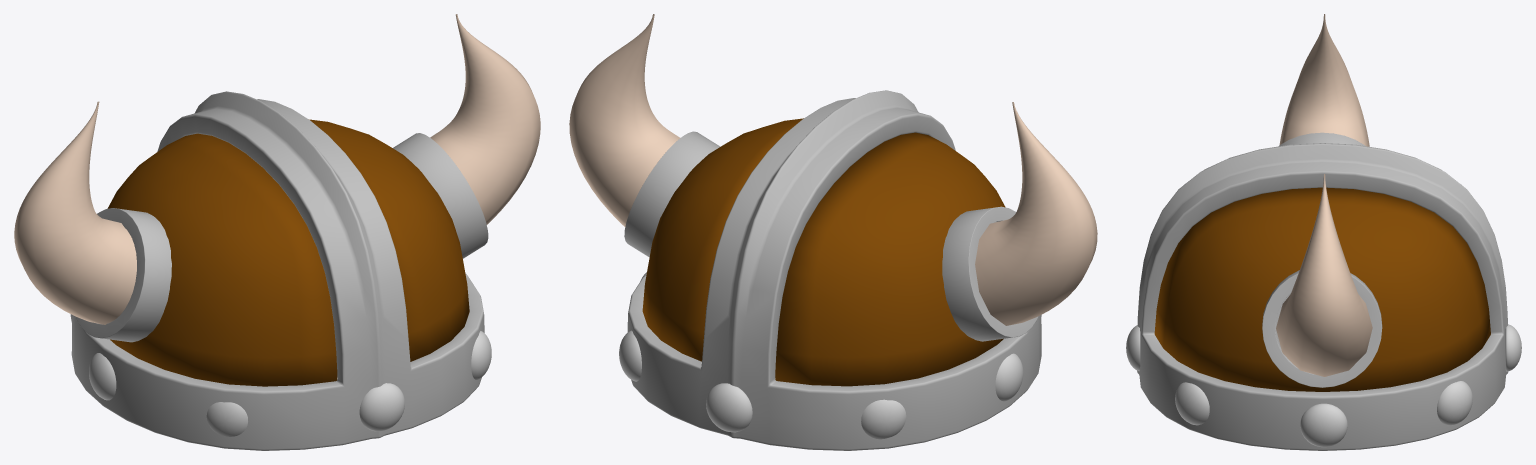
The model's file is viking.glb.
The picture shows the model from 3 angles, left to right: view 1: azimuth 30°, elevation 25°; view 2: azimuth 150°, elevation 25°; view 3: azimuth 270°, elevation 25°; orthographic projection. The views are drawn at different scales.
Visible parts, largest first — view 1: Viking_Material.001_0, Viking_Material_0, Viking_Material.003_0, Viking_Material.002_0; view 2: Viking_Material.001_0, Viking_Material_0, Viking_Material.003_0, Viking_Material.002_0; view 3: Viking_Material_0, Viking_Material.001_0, Viking_Material.003_0, Viking_Material.002_0.
Part boxes in pixels (box(x1,y1,x2,y2)): Viking_Material.001_0: box(71, 91, 488, 450); Viking_Material_0: box(107, 119, 469, 386); Viking_Material.003_0: box(14, 14, 540, 324); Viking_Material.002_0: box(70, 273, 491, 436); Viking_Material.001_0: box(624, 90, 1041, 450); Viking_Material_0: box(642, 118, 1005, 386); Viking_Material.003_0: box(569, 14, 1097, 325); Viking_Material.002_0: box(619, 272, 1041, 439); Viking_Material_0: box(1154, 187, 1490, 391); Viking_Material.001_0: box(1137, 132, 1508, 450); Viking_Material.003_0: box(1276, 14, 1372, 376); Viking_Material.002_0: box(1126, 324, 1521, 447).
Size of the model in its own units: 2.94 by 1.66 by 2.13.
